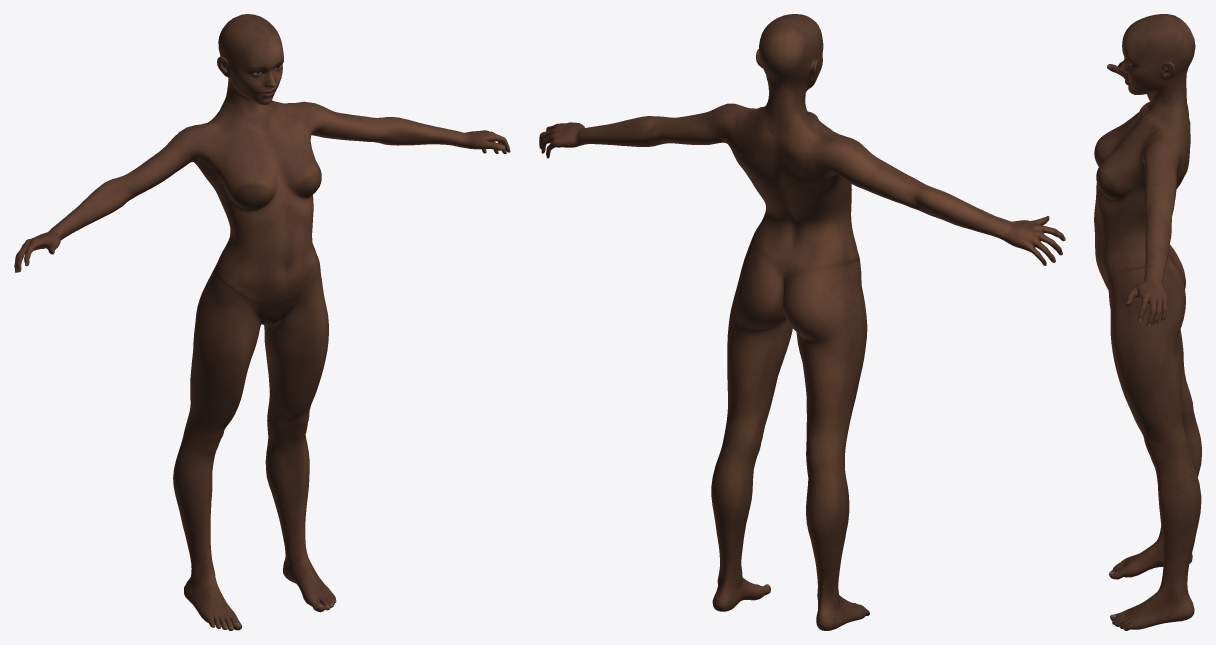
3 views of the same model, side by side, from view 1: azimuth 30°, elevation 25°; view 2: azimuth 150°, elevation 25°; view 3: azimuth 270°, elevation 25° (orthographic). The views are drawn at different scales.
Parts seen in each view (by area): view 1: mesh_character_m.003; view 2: mesh_character_m.003; view 3: mesh_character_m.003.
Boxes of the visible parts, x1,y1,x2,y2 form: mesh_character_m.003: [14, 14, 510, 630]; mesh_character_m.003: [539, 14, 1065, 630]; mesh_character_m.003: [1094, 14, 1201, 630].
Size of the model in its own units: 1.6 by 1.8 by 0.3029.
1 material, 1 textured.
